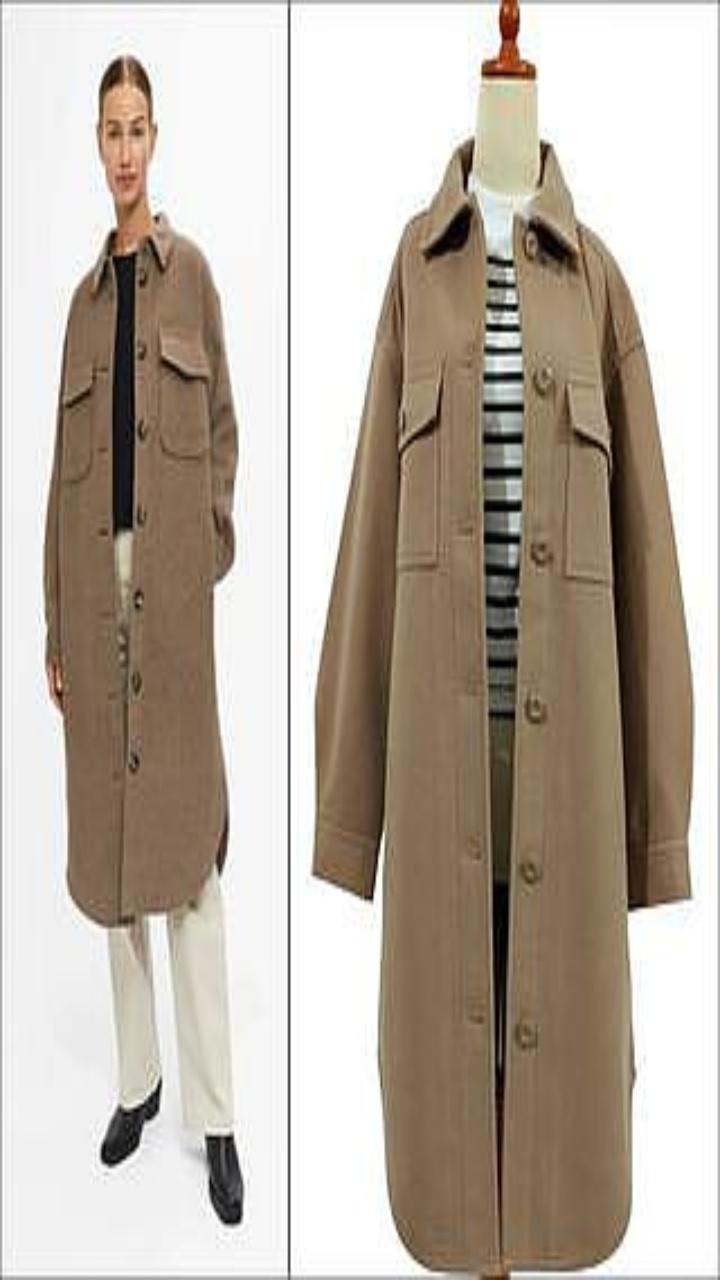Coat: (313, 139, 692, 1272), (44, 213, 236, 925)
T-Shirt: (468, 173, 532, 716), (113, 252, 136, 531)
